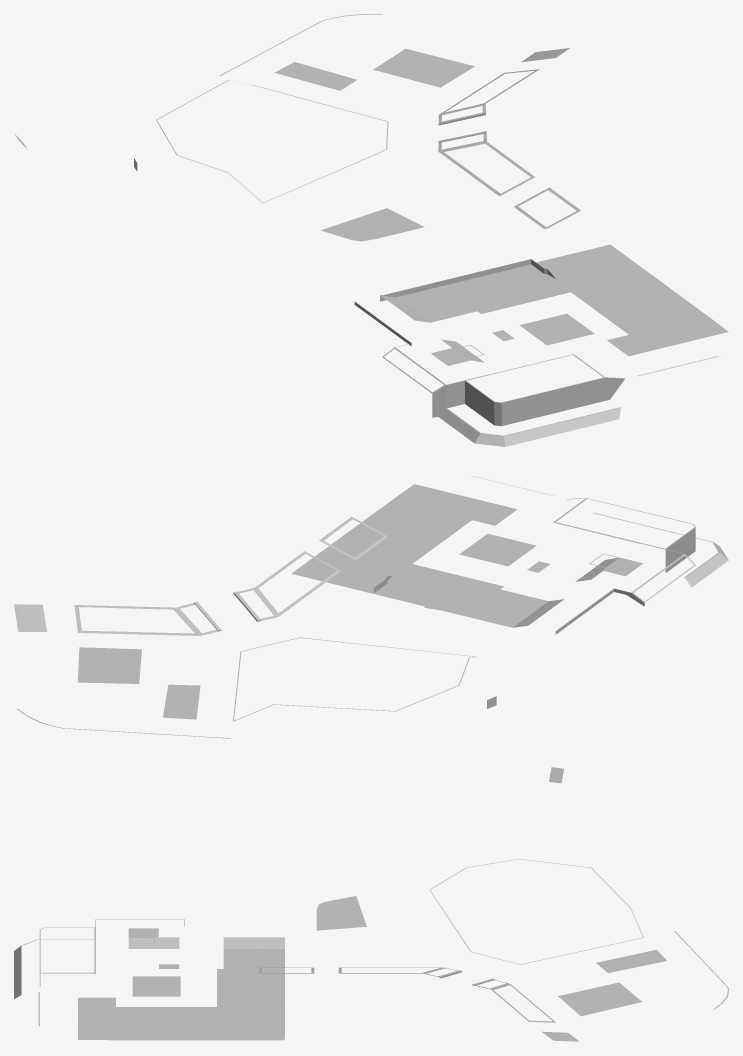
The model's file is kd_stage_1364a3_11_7.glb.
3 views of the same model, one above another, from view 1: azimuth 30°, elevation 25°; view 2: azimuth 150°, elevation 25°; view 3: azimuth 270°, elevation 25° (orthographic). The views are drawn at different scales.
Parts seen in each view (by area): view 1: kd_stage_1364a3_11_7; view 2: kd_stage_1364a3_11_7; view 3: kd_stage_1364a3_11_7.
Boxes of the visible parts, box(x1,y1,x2,y2) form: kd_stage_1364a3_11_7: box(14, 14, 728, 446); kd_stage_1364a3_11_7: box(14, 475, 728, 738); kd_stage_1364a3_11_7: box(14, 767, 728, 1041).
Size of the model in its own units: 128 by 27.56 by 165.
Materials: 1 (1 with a texture image).
